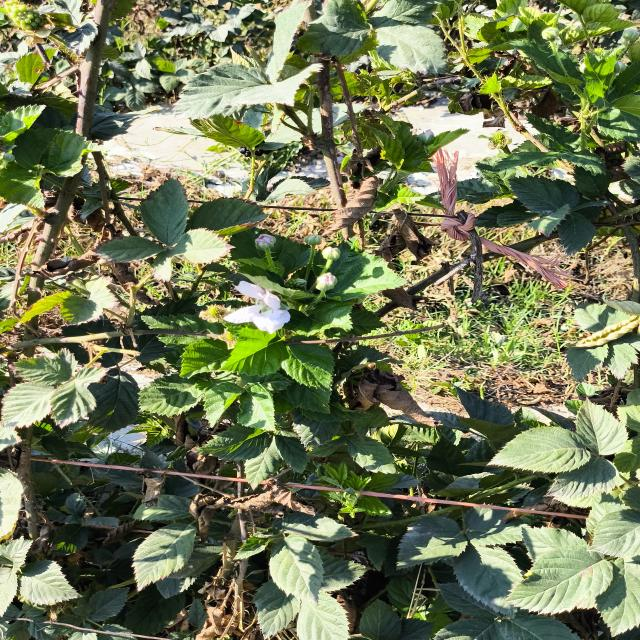boton: (315, 272, 337, 291), (255, 234, 276, 250), (322, 246, 340, 261), (304, 234, 322, 246)
flor: (224, 282, 290, 333)
